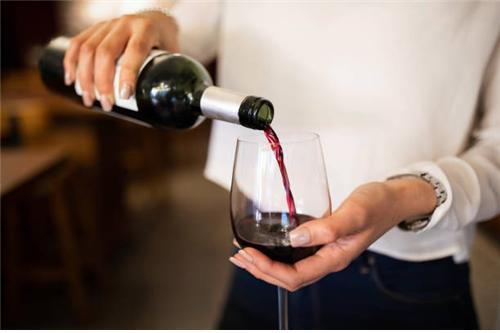alcohol: (38, 27, 277, 136), (228, 131, 332, 325)
